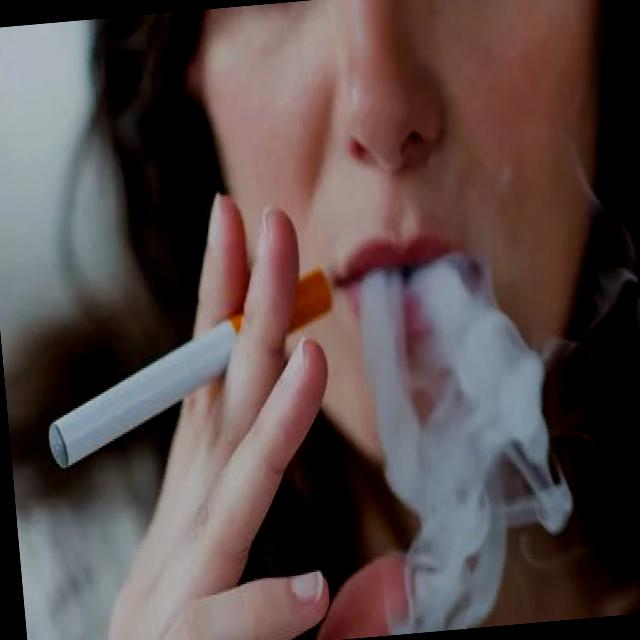smoke: (32, 263, 346, 474)
